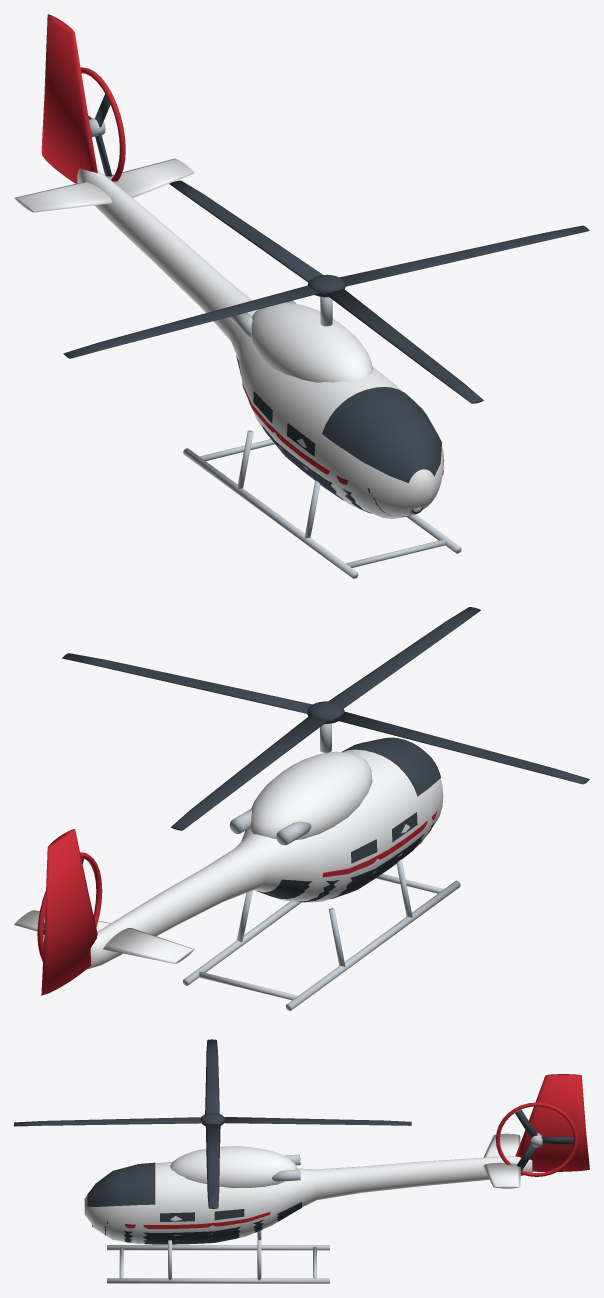
Rendered from helicopter.glb.
3 renders of one model, top to bottom at view 1: azimuth 30°, elevation 25°; view 2: azimuth 150°, elevation 25°; view 3: azimuth 270°, elevation 25°, orthographic. The views are drawn at different scales.
Parts seen in each view (by area): view 1: heli_body, main_blades, heli_dark, heli_accent, heli_metal; view 2: heli_body, main_blades, heli_accent, heli_metal, heli_dark; view 3: heli_body, heli_accent, heli_dark, main_blades, heli_metal, tail_blades.
Boxes of the visible parts, x1,y1,x2,y2 form: heli_body: (14,158,444,518); main_blades: (63,180,589,403); heli_dark: (236,274,441,516); heli_accent: (41,14,443,492); heli_metal: (89,118,461,578); heli_body: (14,749,443,969); main_blades: (62,607,589,830); heli_accent: (37,811,436,995); heli_metal: (183,723,460,1010); heli_dark: (257,701,440,902); heli_body: (84,1133,532,1243); heli_accent: (107,1074,589,1228); heli_dark: (87,1112,301,1244); main_blades: (14,1039,411,1208); heli_metal: (91,1133,542,1283); tail_blades: (515,1109,573,1171).
Bounding box in the file's own units: 10.7 × 5.68 × 15.5.
